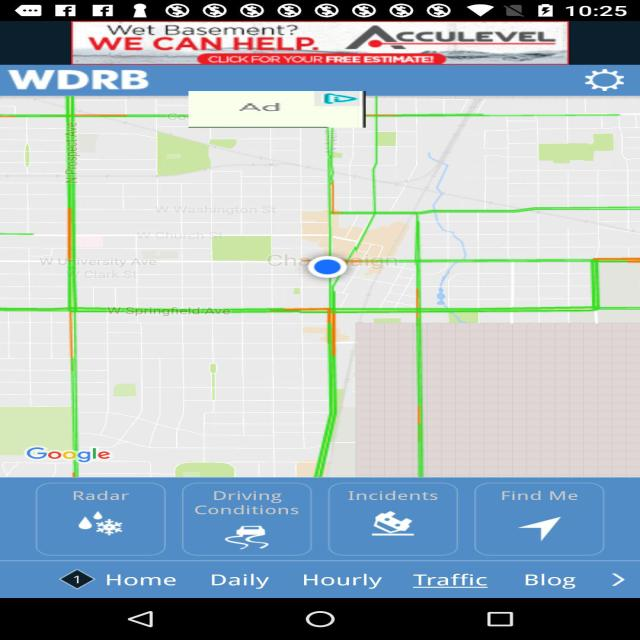sneaking: (188, 91, 366, 128)
